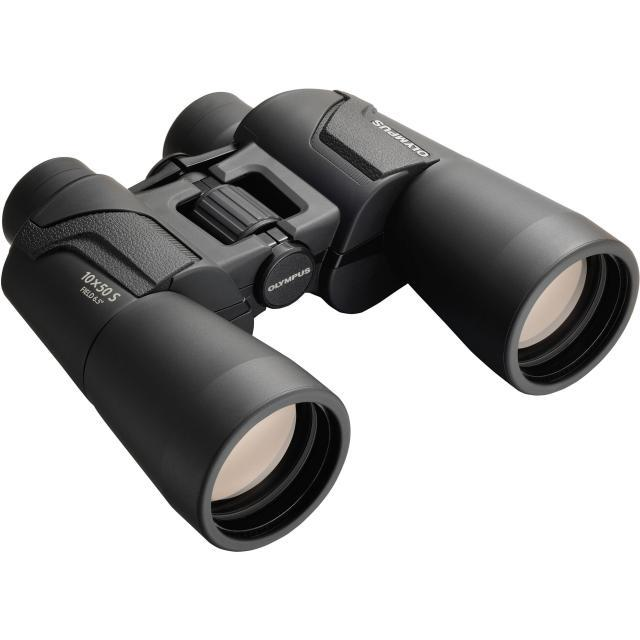Binocular: (4, 68, 640, 559)
